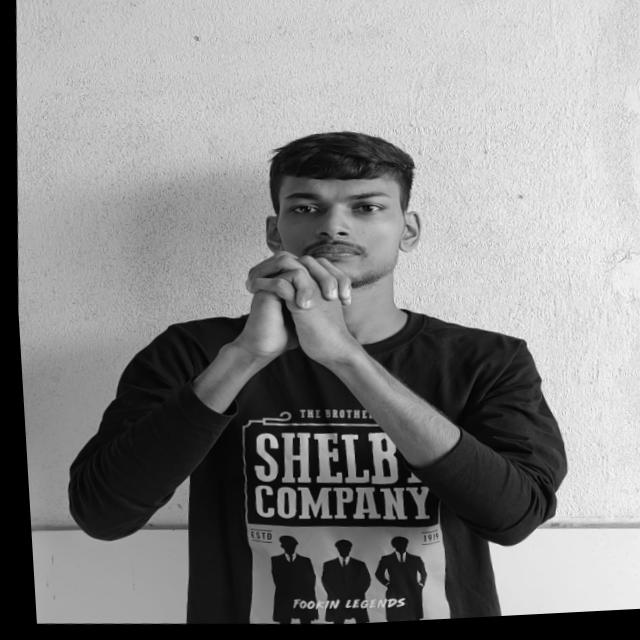Sorry: (231, 251, 358, 366)
